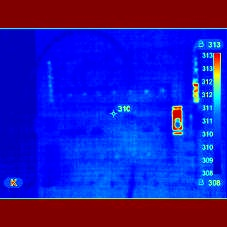Less: (175, 120, 181, 128)
